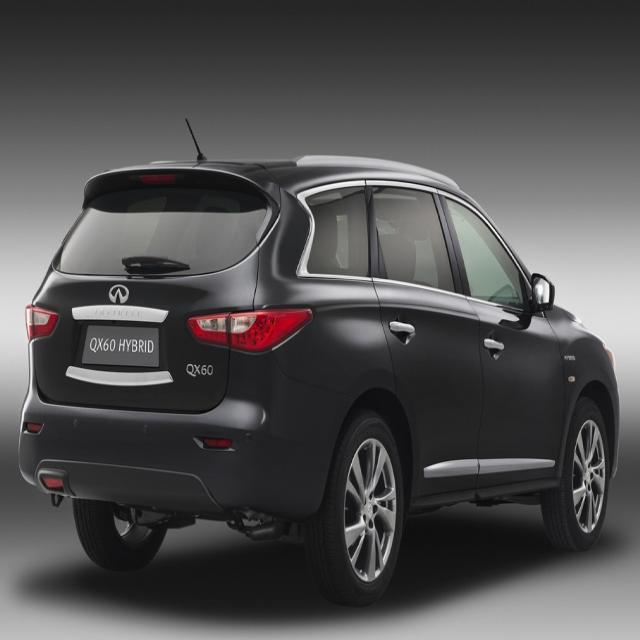back_glass: (52, 180, 270, 279)
back_left_side_light: (24, 304, 59, 346)
back_right_side_light: (186, 304, 314, 352)
door: (368, 190, 484, 501)
front_right_side_door: (438, 186, 569, 495)
front_right_side_mirror: (527, 272, 556, 316)
rear_bumper: (16, 388, 324, 518)
wheel: (303, 401, 406, 606), (539, 396, 612, 556), (72, 501, 168, 571)
